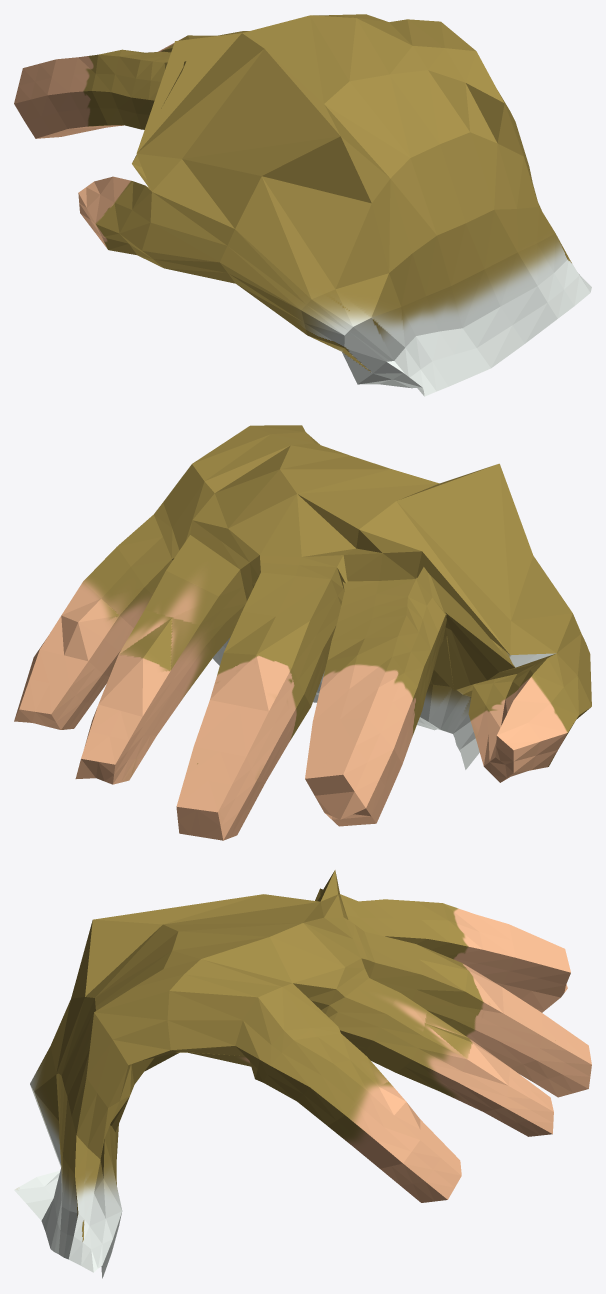
File: flexion0053.obj
3 views of the same model, one above another, from view 1: azimuth 30°, elevation 25°; view 2: azimuth 150°, elevation 25°; view 3: azimuth 270°, elevation 25° (orthographic). The views are drawn at different scales.
Parts seen in each view (by area): view 1: Hand; view 2: Hand; view 3: Hand.
Part boxes in pixels (bbox=[...]): Hand: bbox=[14, 14, 591, 396]; Hand: bbox=[14, 425, 591, 840]; Hand: bbox=[14, 870, 591, 1278].
Size of the model in its own units: 3.27 by 2.25 by 3.86.
